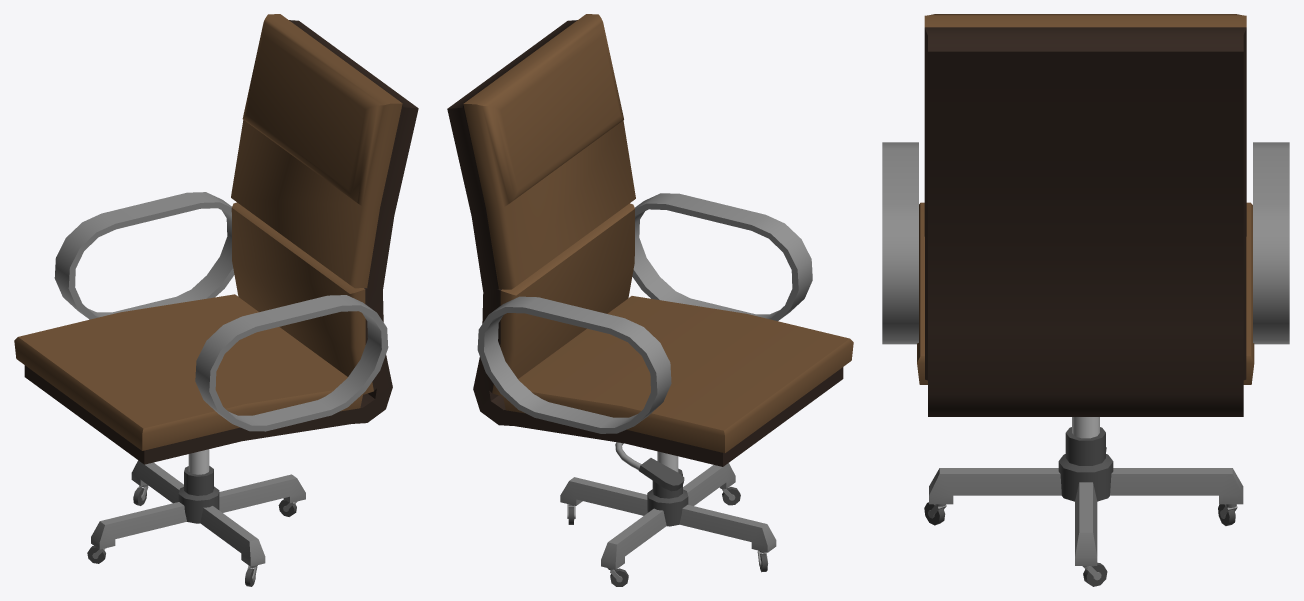
Rendered from chair2.glb.
The picture shows the model from 3 angles, left to right: view 1: azimuth 30°, elevation 25°; view 2: azimuth 150°, elevation 25°; view 3: azimuth 270°, elevation 25°; orthographic projection. The views are drawn at different scales.
Parts seen in each view (by area): view 1: chair2.001; view 2: chair2.001; view 3: chair2.001.
Boxes of the visible parts, x1,y1,x2,y2 form: chair2.001: (14,14,418,586); chair2.001: (447,14,853,586); chair2.001: (882,14,1289,586).
Bounding box in the file's own units: 1.03 × 1.59 × 0.9845.
